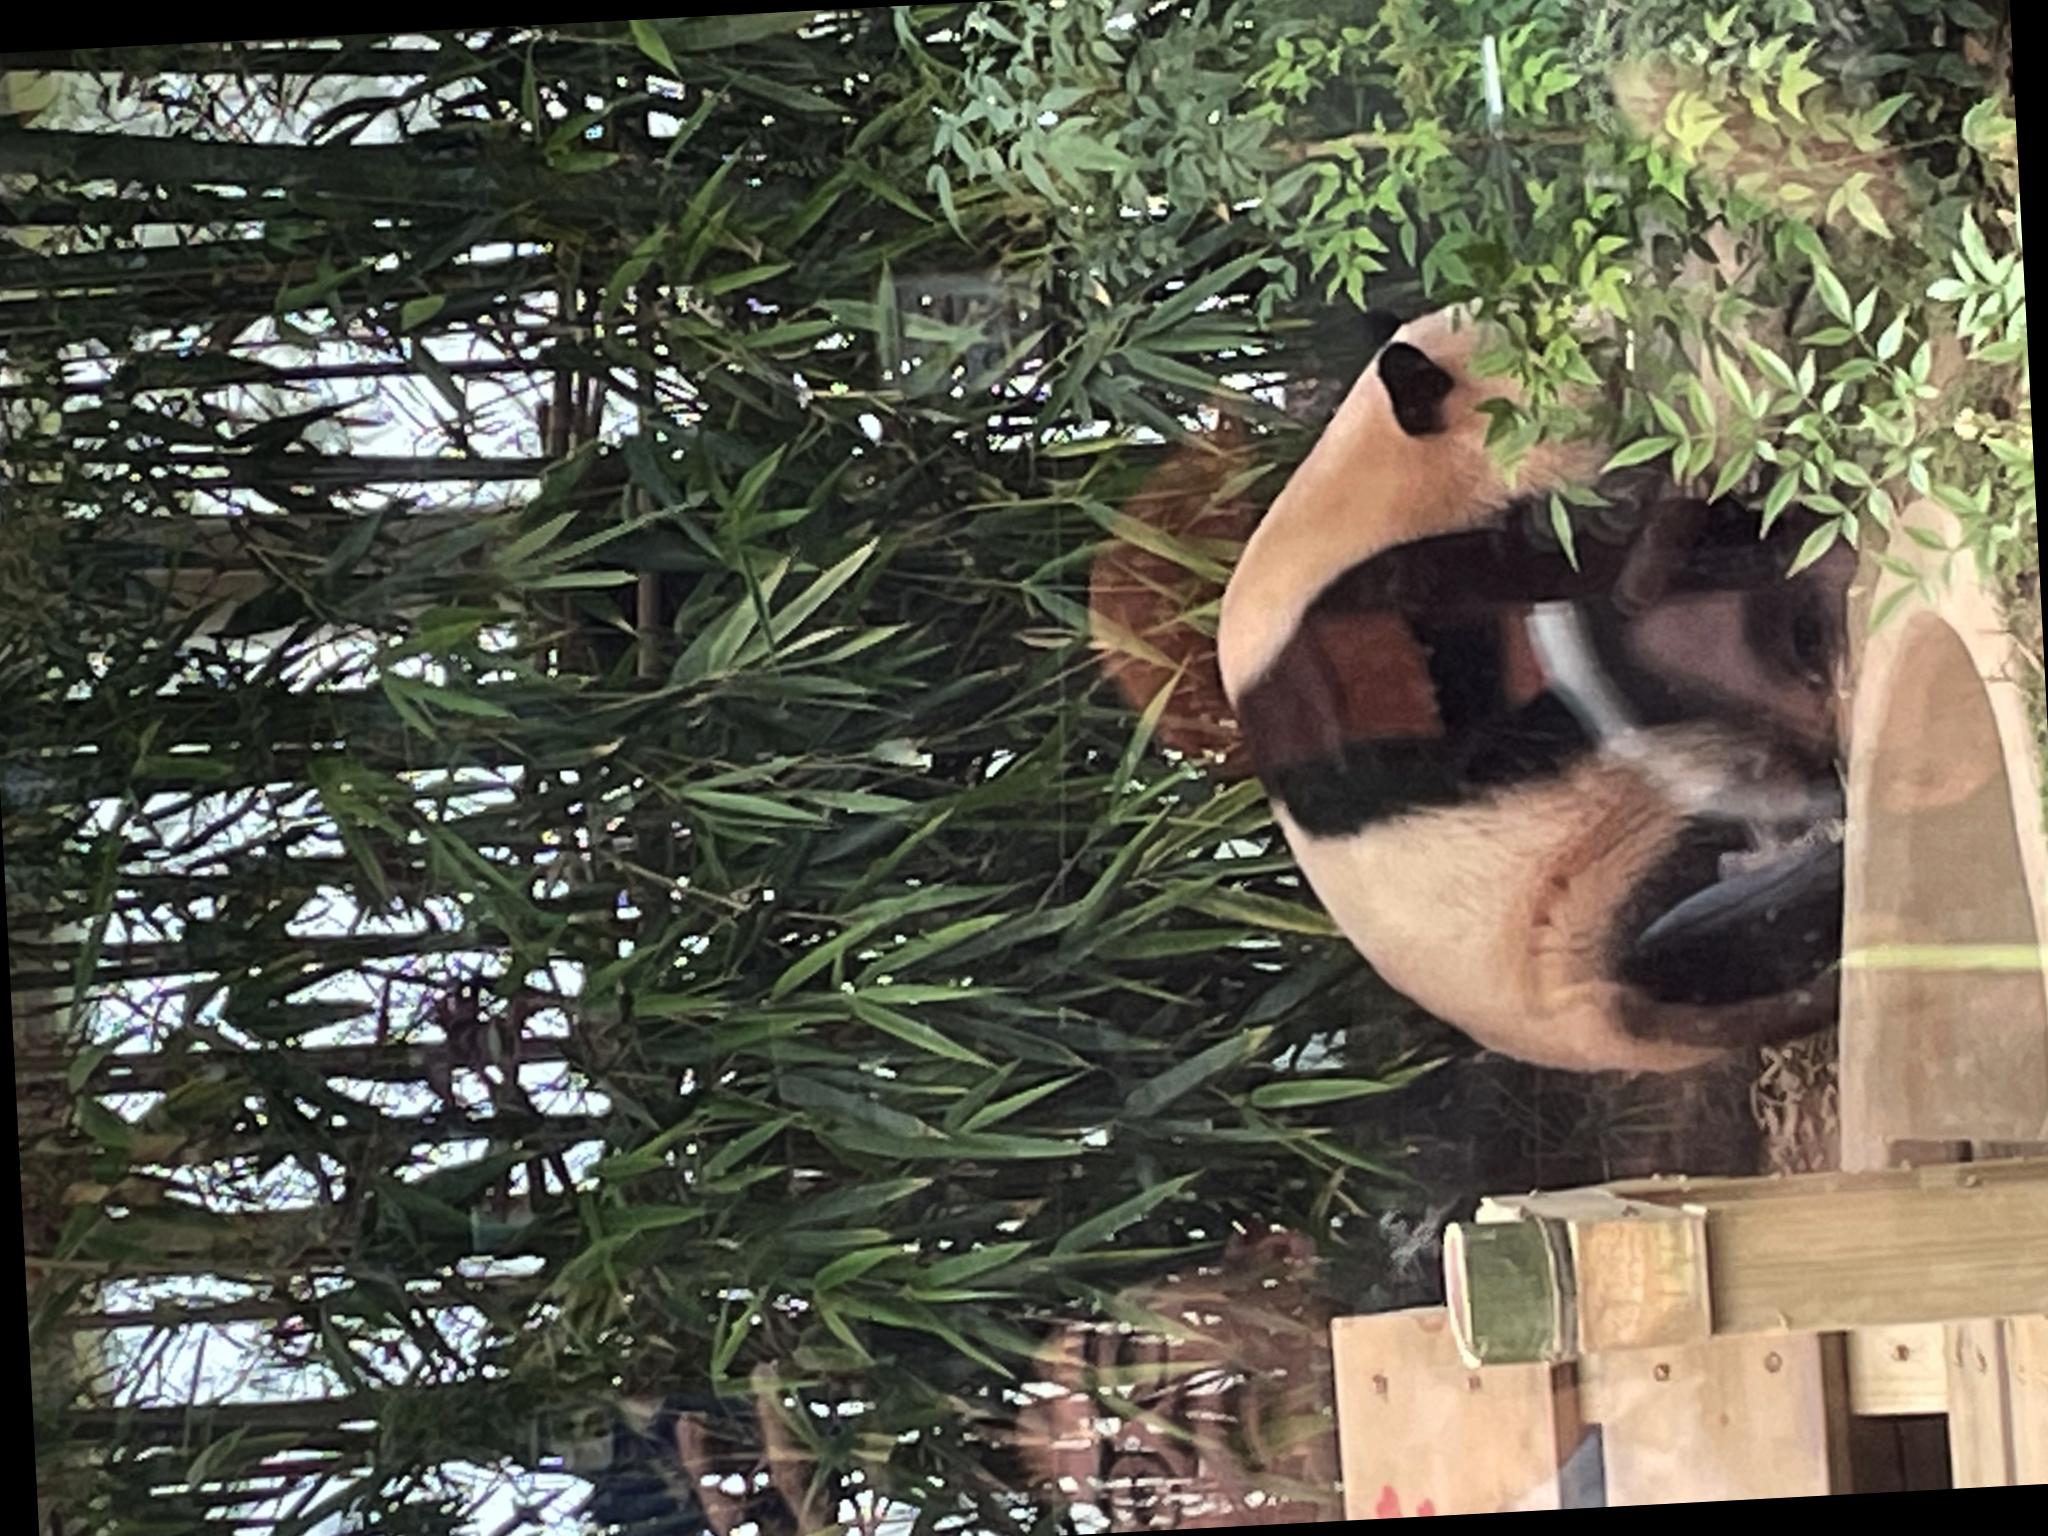panda: (448, 1202, 1259, 1536)
